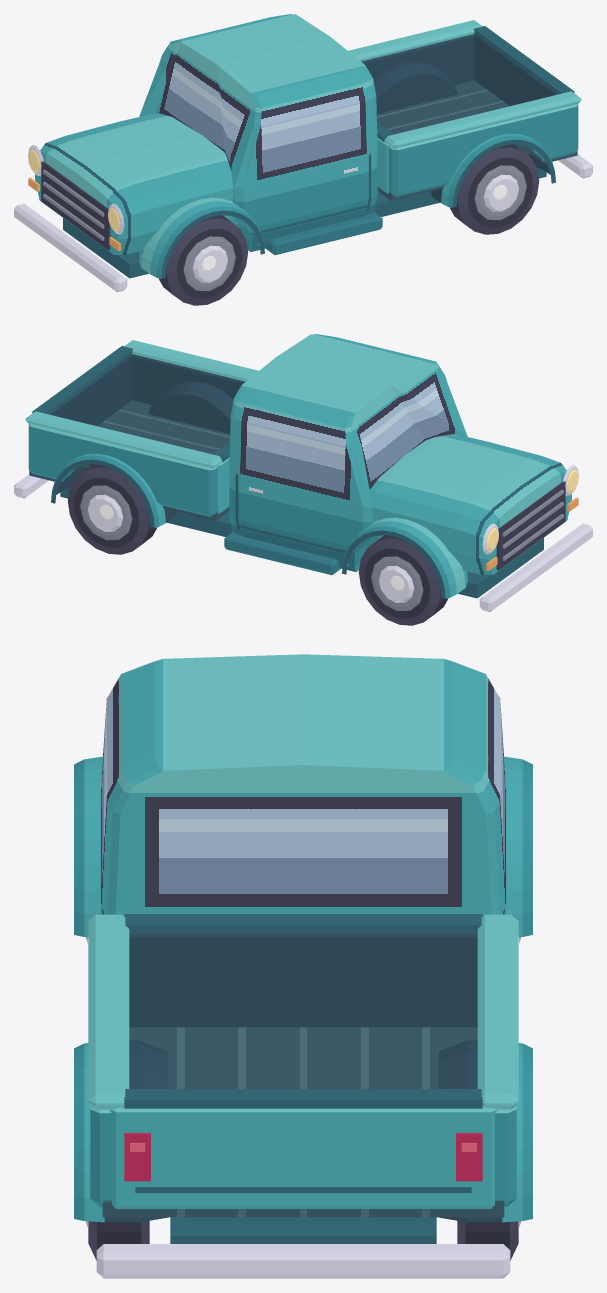
The picture shows the model from 3 angles, top to bottom: view 1: azimuth 30°, elevation 25°; view 2: azimuth 150°, elevation 25°; view 3: azimuth 270°, elevation 25°; orthographic projection. The views are drawn at different scales.
Visible parts, largest first — view 1: Body_static, Wheel_FL_tire_hub, Wheel_RL_tire_hub; view 2: Body_static, Wheel_FR_tire_hub, Wheel_RR_tire_hub; view 3: Body_static, Wheel_RL_tire_hub, Wheel_RR_tire_hub.
Part boxes in pixels (x1,y1,x2,y2): Body_static: (14, 14, 592, 292); Wheel_FL_tire_hub: (158, 215, 248, 305); Wheel_RL_tire_hub: (449, 144, 539, 234); Body_static: (14, 334, 592, 612); Wheel_FR_tire_hub: (358, 535, 448, 625); Wheel_RR_tire_hub: (67, 464, 157, 554); Body_static: (74, 654, 532, 1278); Wheel_RL_tire_hub: (86, 1220, 149, 1260); Wheel_RR_tire_hub: (457, 1220, 520, 1260).
Size of the model in its own units: 93.91 by 35.13 by 38.96.
Materials: 1 (1 with a texture image).
